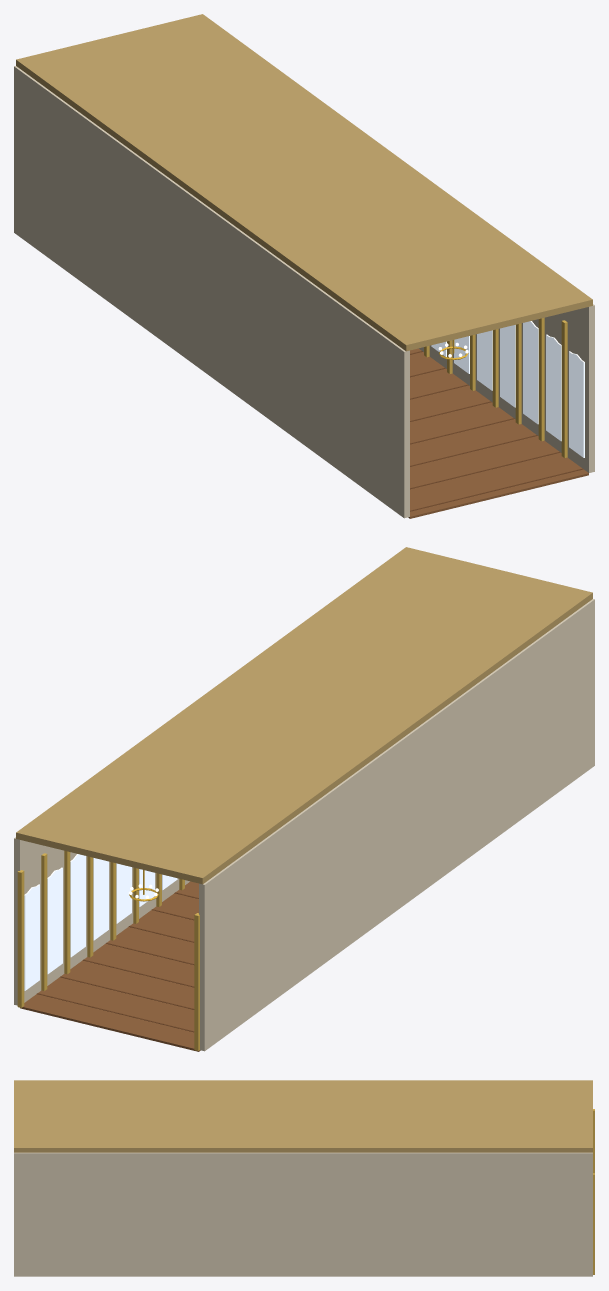
The model's file is sala_lustrzana.glb.
The picture shows the model from 3 angles, top to bottom: view 1: azimuth 30°, elevation 25°; view 2: azimuth 150°, elevation 25°; view 3: azimuth 270°, elevation 25°; orthographic projection. The views are drawn at different scales.
Parts seen in each view (by area): view 1: sala_lustrzana; view 2: sala_lustrzana; view 3: sala_lustrzana.
Boxes of the visible parts, <box> form: sala_lustrzana: <box>14,14,594,518</box>; sala_lustrzana: <box>14,547,594,1051</box>; sala_lustrzana: <box>14,1080,594,1276</box>.
Size of the model in its own units: 9.6 by 8.4 by 34.12.
